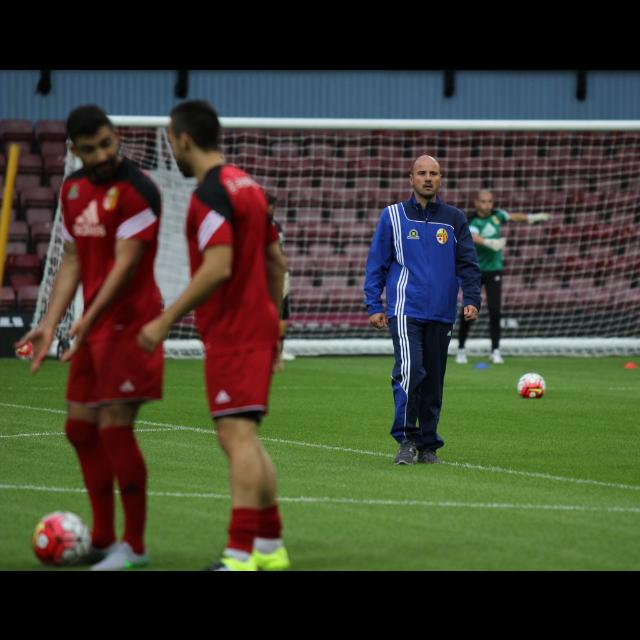Football: (28, 503, 86, 561), (513, 369, 549, 399)
